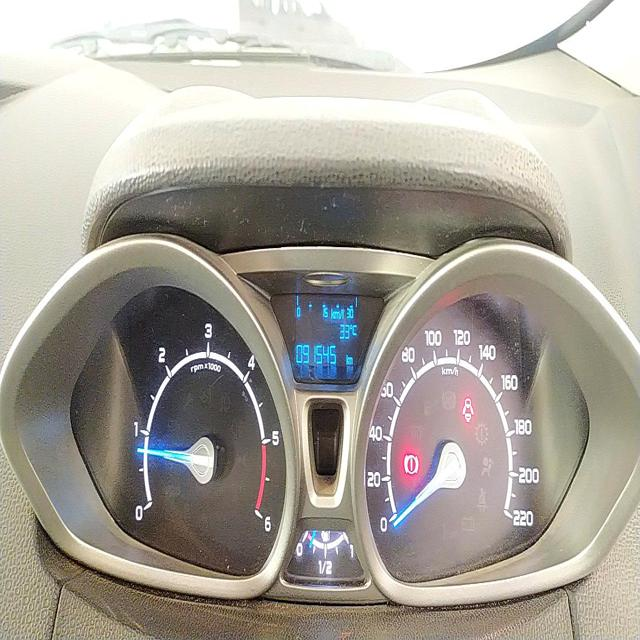odometer: (294, 339, 338, 365)
